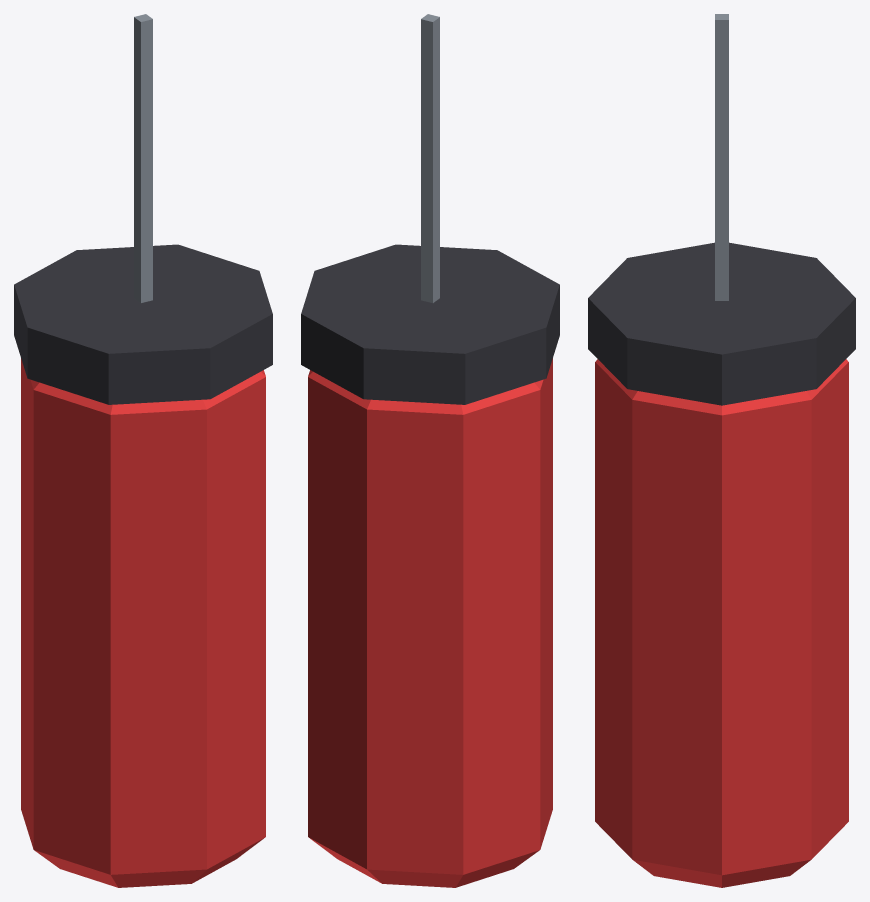
File: PunchingBag.fbx
3 renders of one model, left to right at view 1: azimuth 30°, elevation 25°; view 2: azimuth 150°, elevation 25°; view 3: azimuth 270°, elevation 25°, orthographic.
Parts seen in each view (by area): view 1: PunchingBag; view 2: PunchingBag; view 3: PunchingBag.
Boxes of the visible parts, box(x1,y1,x2,y2) form: PunchingBag: box(14, 14, 272, 887); PunchingBag: box(301, 14, 559, 887); PunchingBag: box(588, 14, 855, 887).
Size of the model in its own units: 1.9 by 6.5 by 1.9.
Materials: 1 (1 with a texture image).
